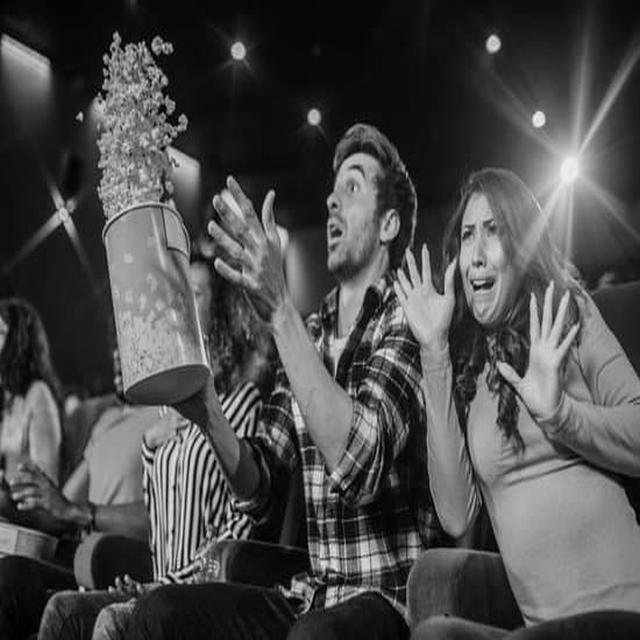Fear: (460, 190, 508, 326)
